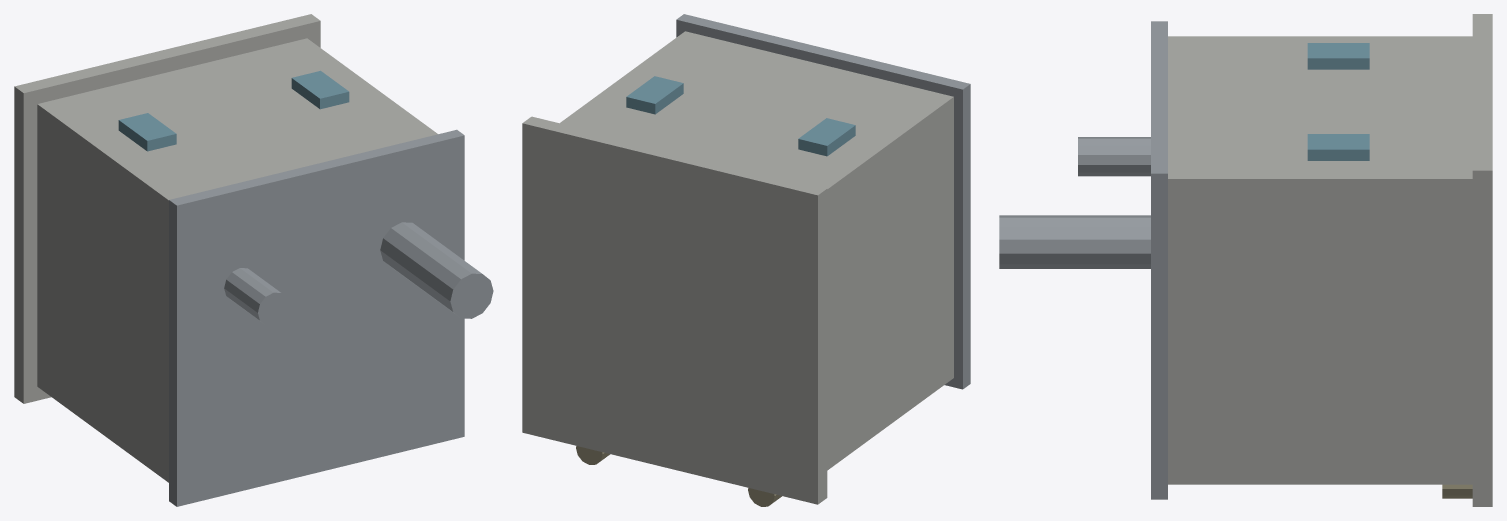
Rendered from AGE_VI_industrial.glb.
3 views of the same model, side by side, from view 1: azimuth 30°, elevation 25°; view 2: azimuth 150°, elevation 25°; view 3: azimuth 270°, elevation 25° (orthographic). The views are drawn at different scales.
Visible parts, largest first — view 1: world; view 2: world; view 3: world.
Boxes of the visible parts, x1,y1,x2,y2 form: world: (14, 14, 493, 506); world: (522, 14, 970, 506); world: (999, 14, 1492, 506).
Bounding box in the file's own units: 6.6 × 7.05 × 8.78.
